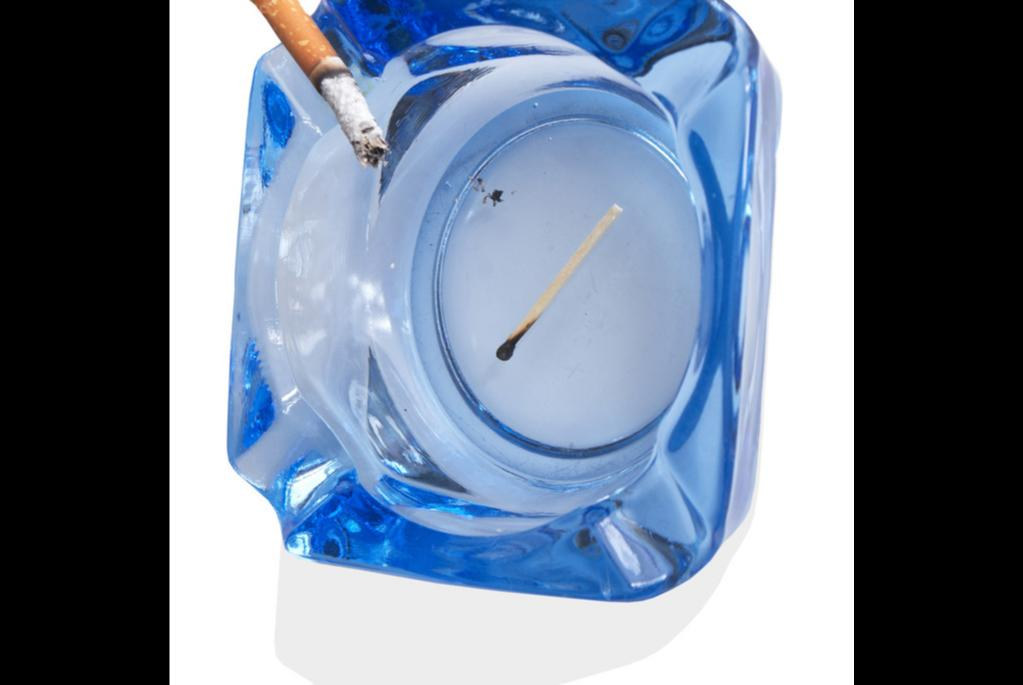Cigarette: (248, 0, 391, 162)
